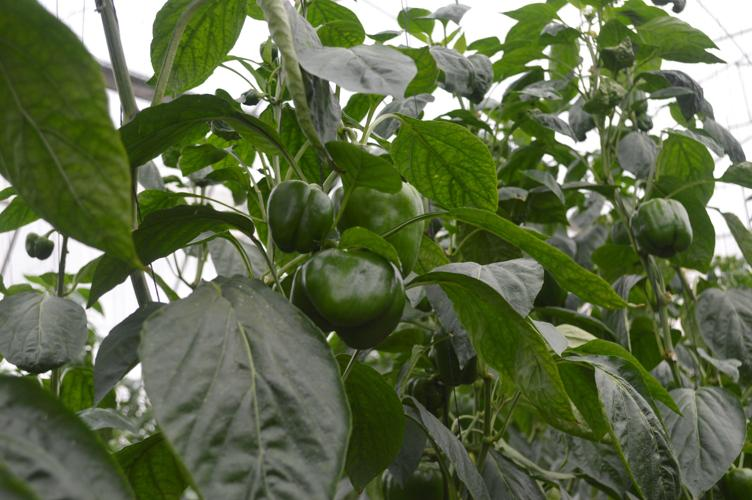BellPepper: (285, 242, 404, 354), (334, 162, 442, 268), (263, 176, 332, 256), (630, 191, 701, 268)
